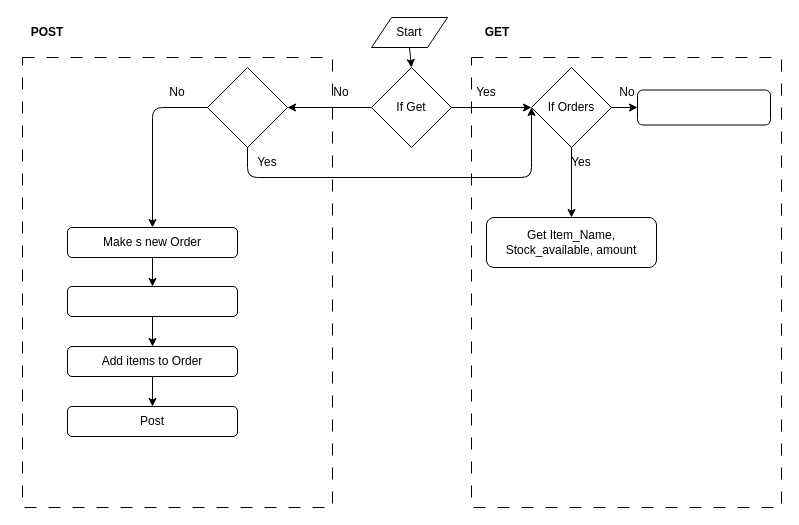
Some shapes in this 799 by 525 pixel diagram are drawn without their labels. The shapes that lost their labels are listed below. From the top down, each one's centre as x and y in pixels, then its label:
(x=247, y=107): If OS
(x=703, y=107): Get Item_Name, Stock_available
(x=152, y=301): Update Stock
